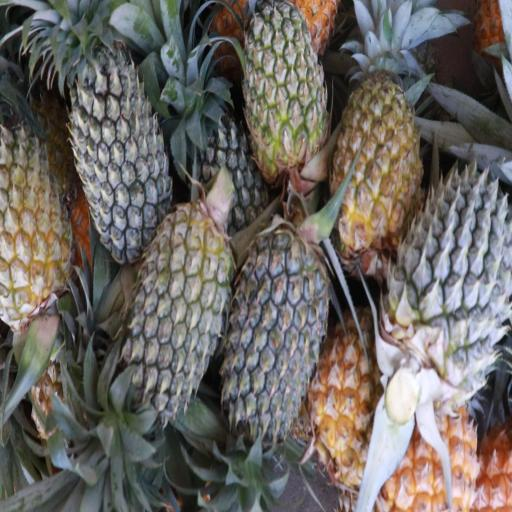------------------------------: (238, 0, 330, 175)
Pineapple - v8 v1: (334, 68, 423, 256), (0, 128, 72, 338), (313, 304, 393, 476), (386, 386, 477, 512)
